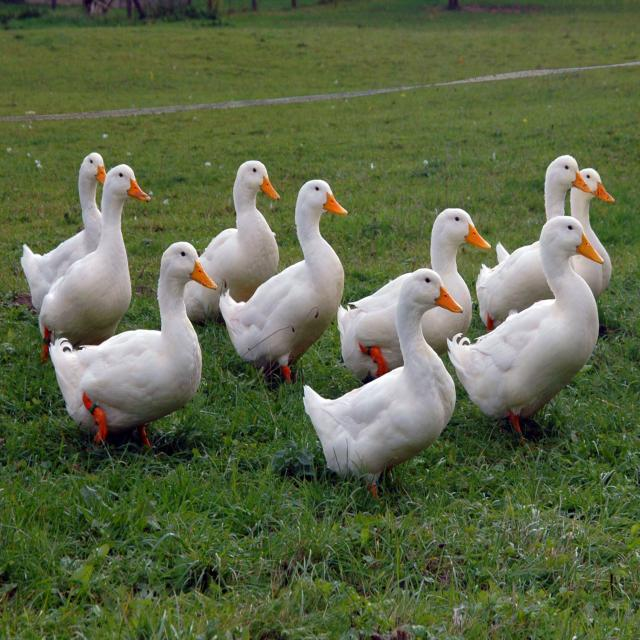duck: (304, 268, 462, 486), (49, 242, 217, 446), (447, 216, 603, 432), (219, 180, 347, 382), (39, 164, 150, 359), (185, 161, 279, 322), (21, 152, 106, 311), (422, 208, 490, 355), (571, 168, 614, 298), (545, 155, 595, 220)
